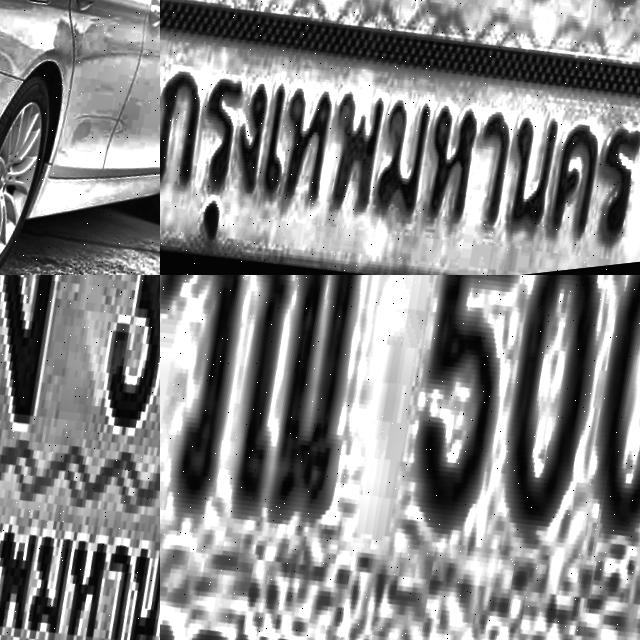license-plate: (160, 275, 640, 640), (160, 0, 640, 275), (0, 275, 160, 640)
